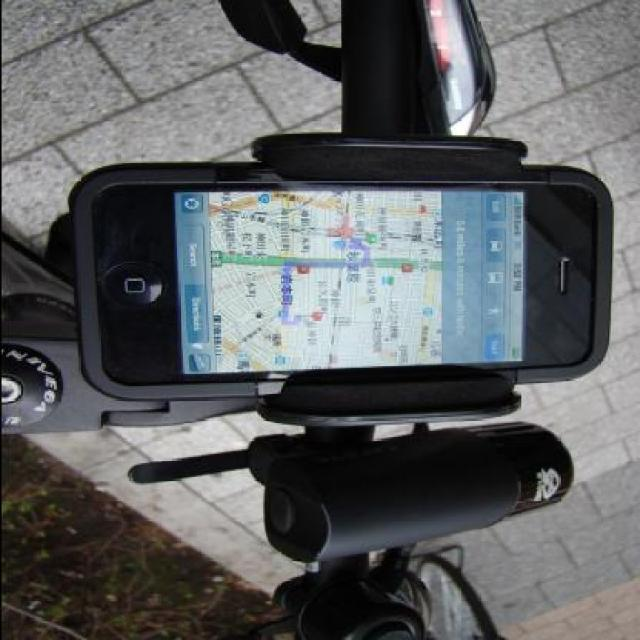phone: (37, 125, 609, 408)
